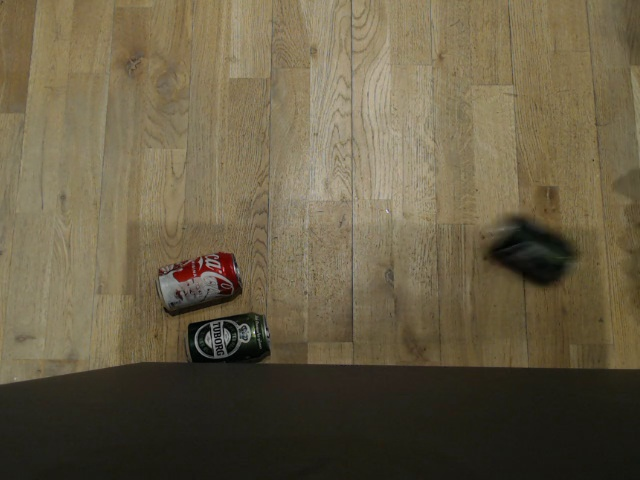beer: (475, 208, 578, 290), (179, 313, 268, 365)
cola: (150, 247, 243, 308)
